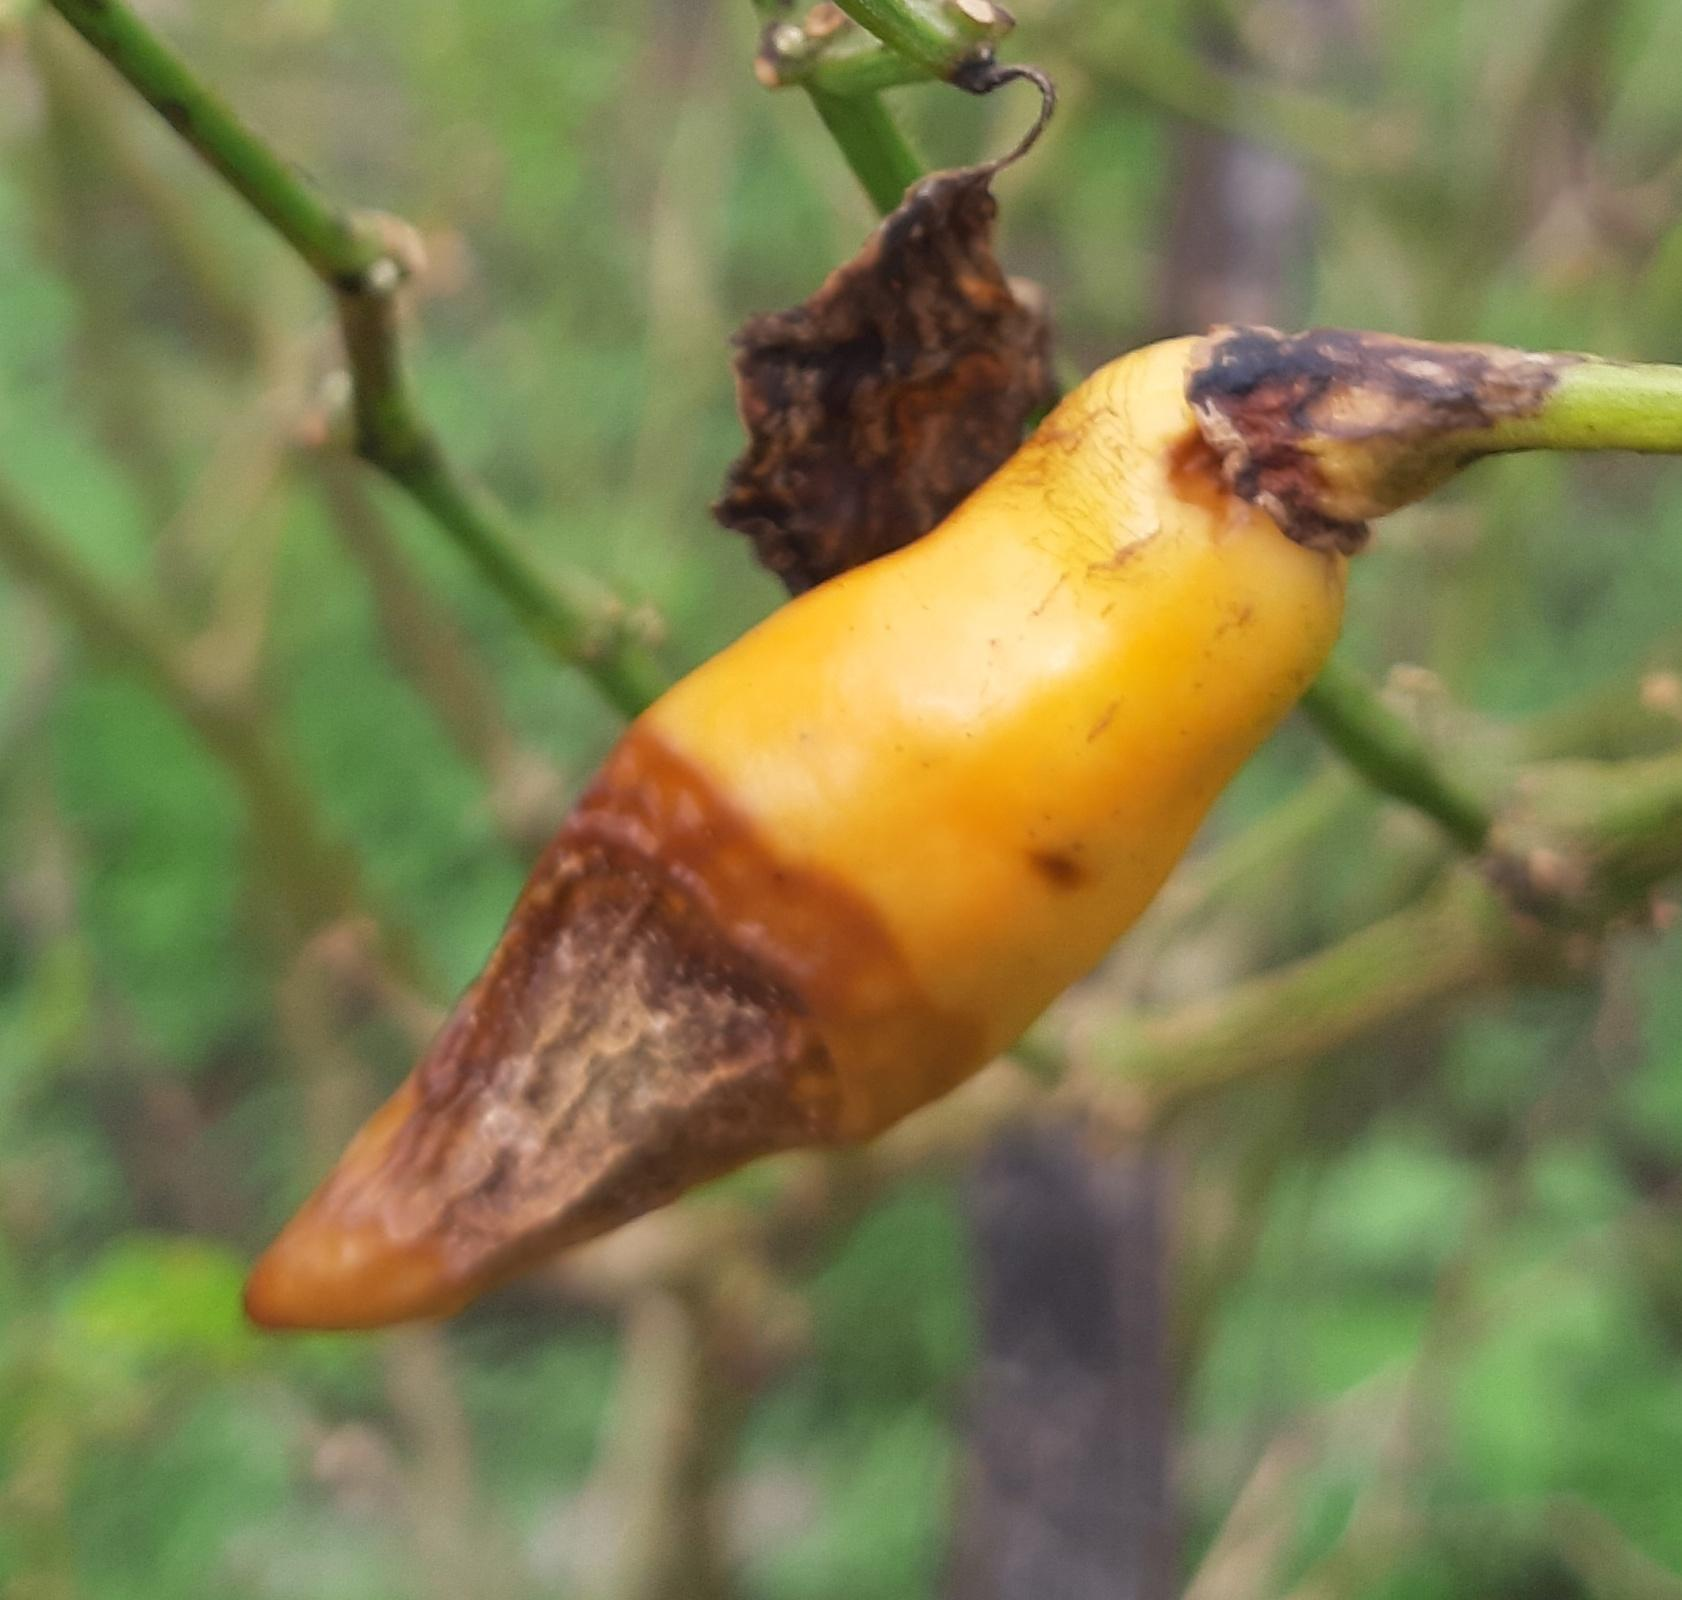antraknosa: (225, 334, 1353, 1348)
